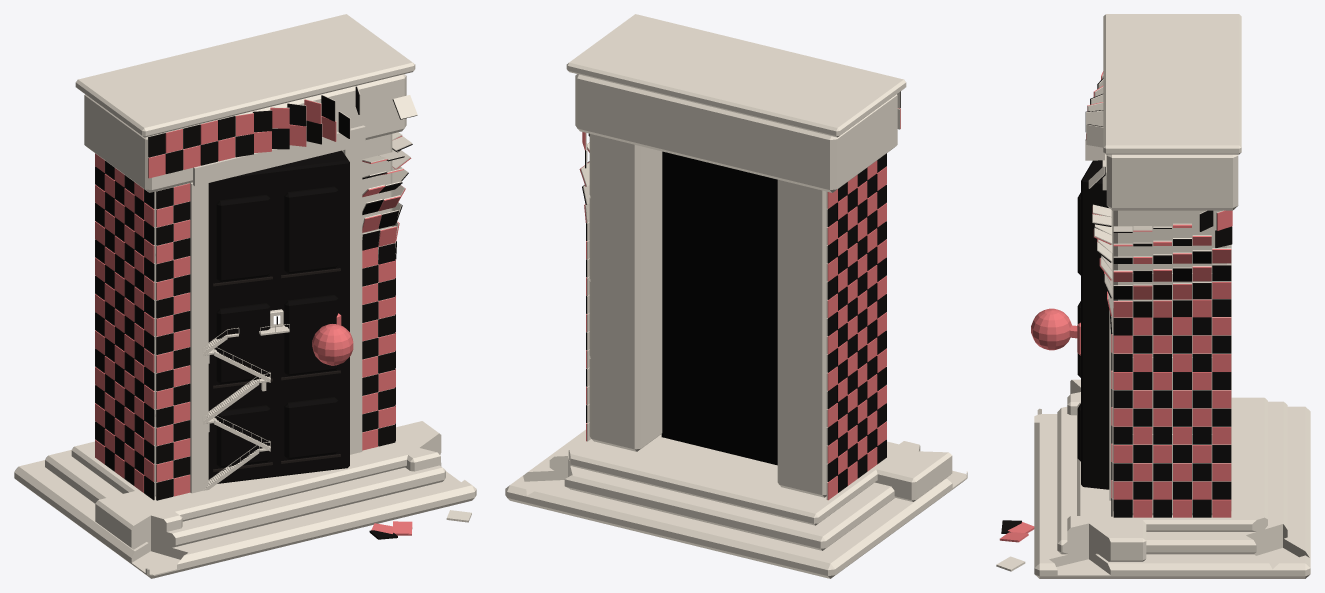
File: door_checker.glb
3 renders of one model, left to right at view 1: azimuth 30°, elevation 25°; view 2: azimuth 150°, elevation 25°; view 3: azimuth 270°, elevation 25°, orthographic.
Visible parts, largest first — view 1: door_checker; view 2: door_checker; view 3: door_checker.
Part boxes in pixels (x1=…): door_checker: x1=14, y1=14, x2=476, y2=578; door_checker: x1=505, y1=14, x2=967, y2=578; door_checker: x1=996, y1=14, x2=1310, y2=578.
Size of the model in its own units: 58 by 70.74 by 47.79.
